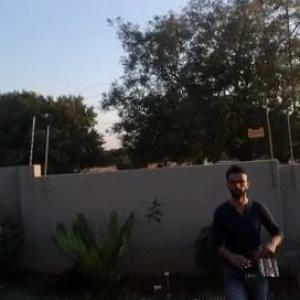follow: (205, 157, 292, 299)
